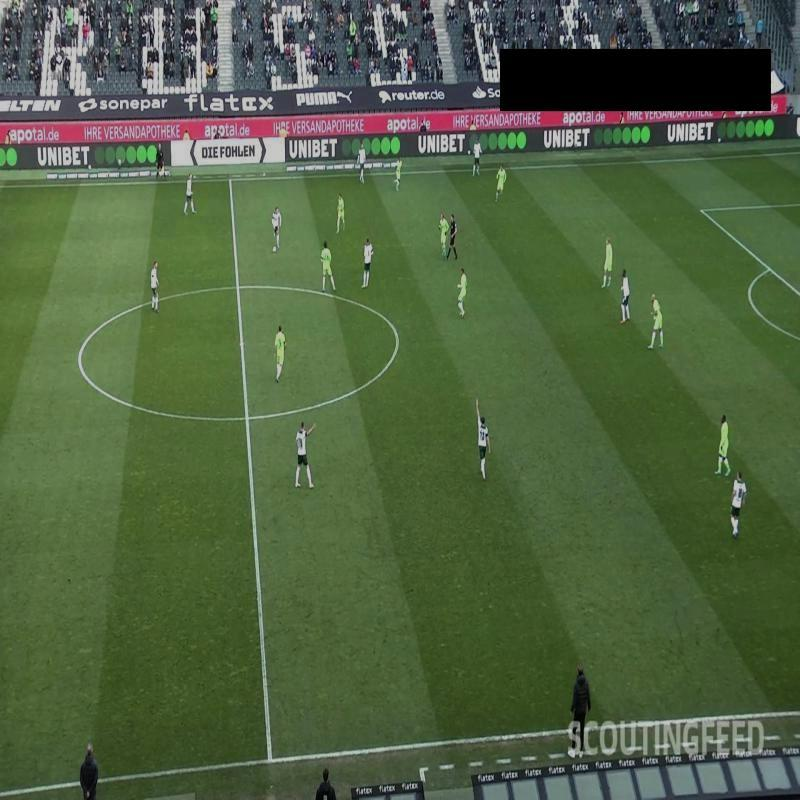10: (764, 260, 778, 274)
13: (223, 172, 237, 186)
14: (230, 280, 244, 294)
15: (240, 410, 253, 424)
16: (262, 751, 278, 769)
9: (696, 203, 710, 216)
c: (68, 346, 88, 372), (390, 330, 404, 344)
